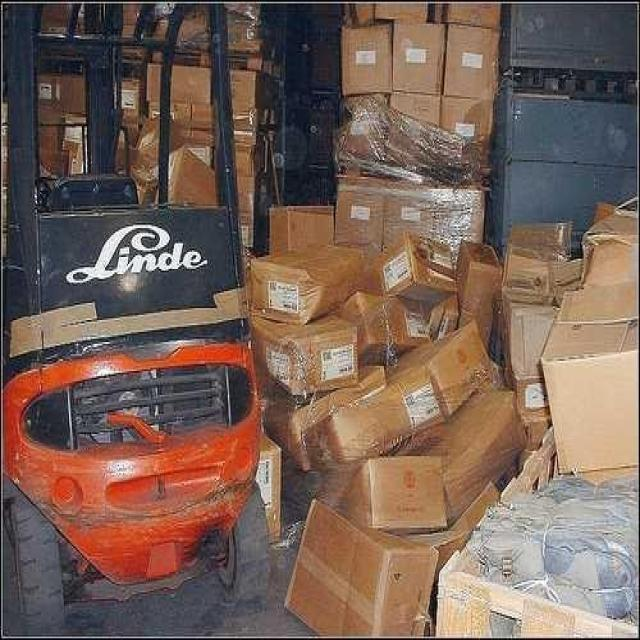forklift: (0, 0, 278, 640)
